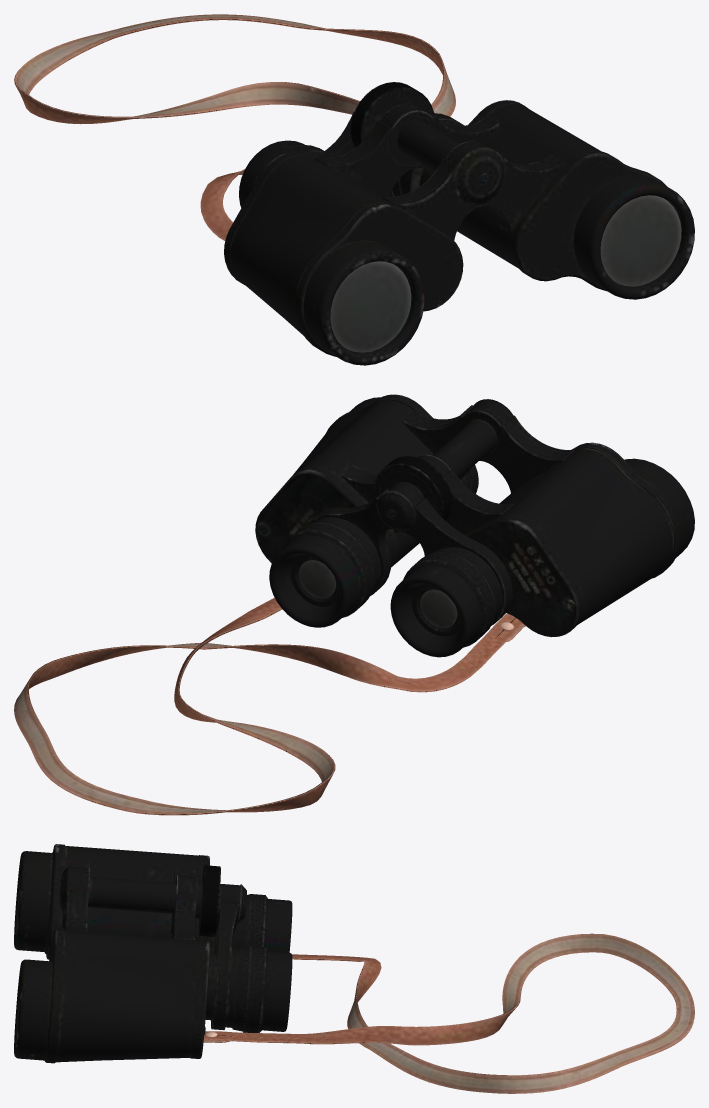
File: binoculars.glb
3 views of the same model, one above another, from view 1: azimuth 30°, elevation 25°; view 2: azimuth 150°, elevation 25°; view 3: azimuth 270°, elevation 25° (orthographic). The views are drawn at different scales.
Visible parts, largest first — view 1: binoculars_right, binoculars_left, binoculars_strap, binoculars_column; view 2: binoculars_right, binoculars_left, binoculars_strap, binoculars_column; view 3: binoculars_left, binoculars_strap, binoculars_right, binoculars_column.
Boxes of the visible parts, box(x1,y1,x2,y2) form: binoculars_right: box(224, 111, 480, 365); binoculars_left: box(390, 100, 694, 299); binoculars_strap: box(14, 14, 455, 240); binoculars_column: box(350, 82, 505, 205); binoculars_right: box(390, 415, 694, 657); binoculars_left: box(255, 394, 483, 627); binoculars_strap: box(14, 598, 525, 815); binoculars_column: box(373, 399, 513, 533); binoculars_left: box(14, 886, 292, 1063); binoculars_strap: box(203, 933, 694, 1093); binoculars_right: box(14, 844, 292, 959); binoculars_column: box(59, 865, 246, 936).
Bounding box in the file's own units: 0.1669 × 0.0663 × 0.2879.
2 materials, 2 textured.
